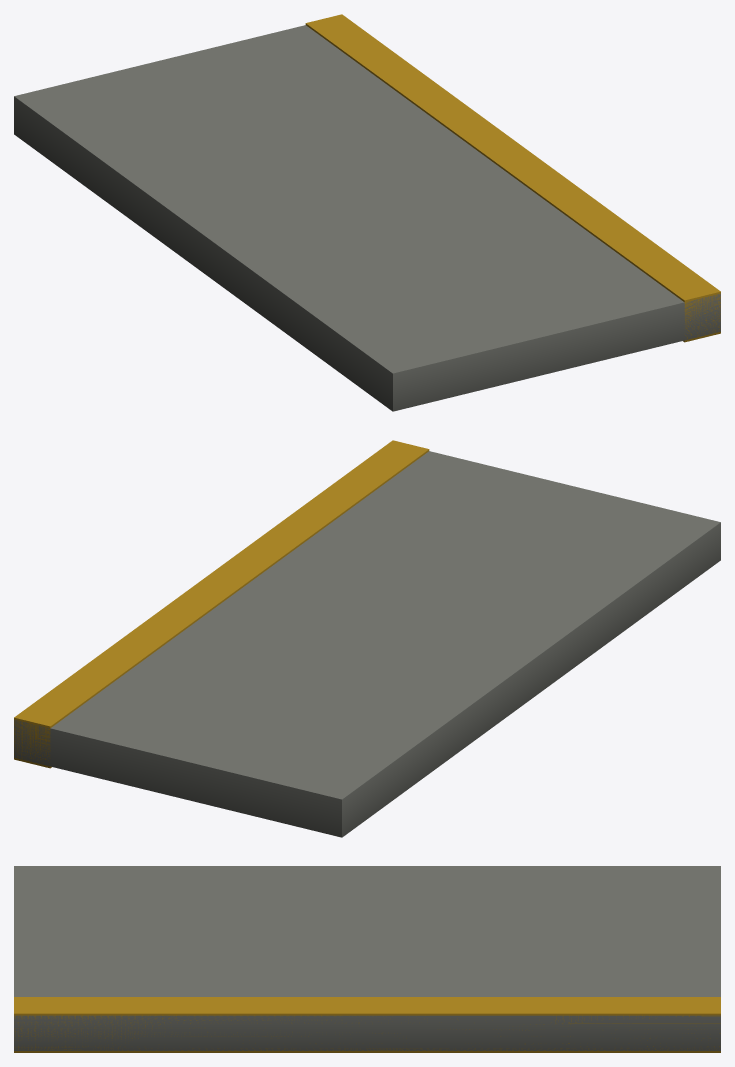
Rendered from m_uplink_259ad4da.glb.
3 renders of one model, top to bottom at view 1: azimuth 30°, elevation 25°; view 2: azimuth 150°, elevation 25°; view 3: azimuth 270°, elevation 25°, orthographic. The views are drawn at different scales.
Parts seen in each view (by area): view 1: mesh; view 2: mesh; view 3: mesh.
Boxes of the visible parts, <box> form: mesh: <box>14,14,720,411</box>; mesh: <box>14,440,720,837</box>; mesh: <box>14,866,720,1052</box>.
Bounding box in the file's own units: 18 × 2.2 × 36.
